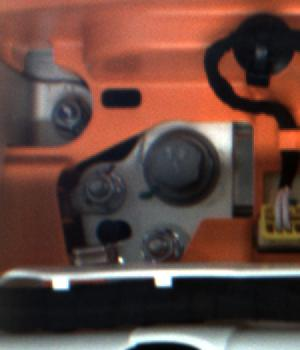nut_b: (144, 126, 224, 205)
